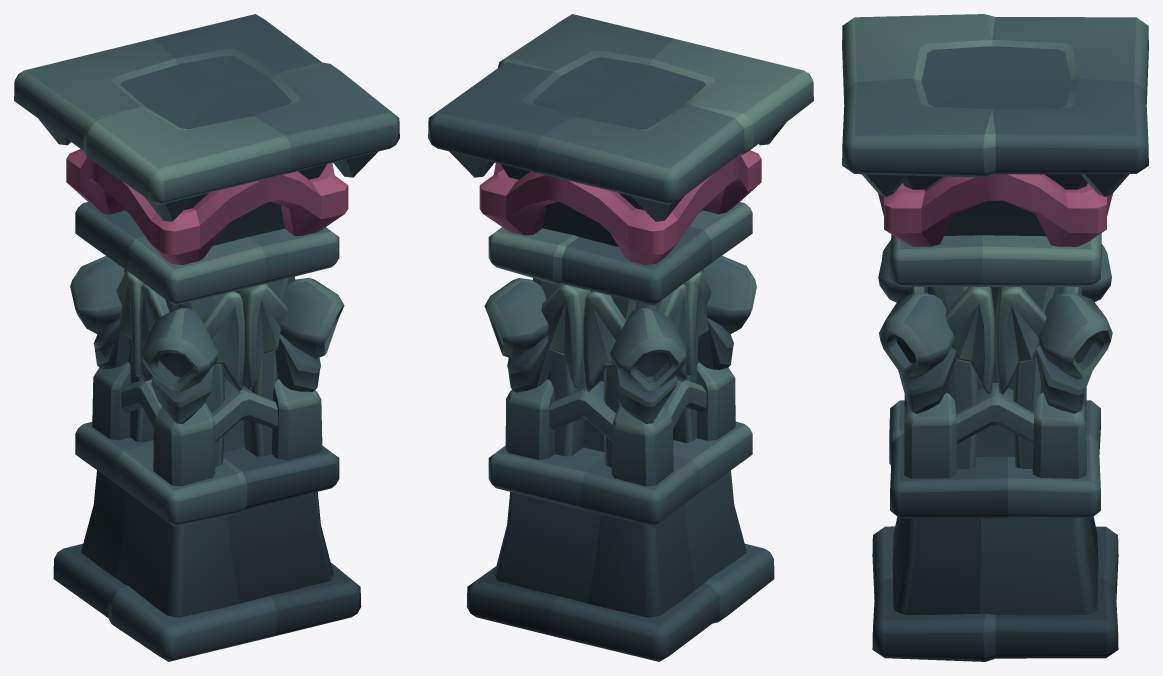
Rendered from pillar_fat.fbx.
The picture shows the model from 3 angles, left to right: view 1: azimuth 30°, elevation 25°; view 2: azimuth 150°, elevation 25°; view 3: azimuth 270°, elevation 25°; orthographic projection. The views are drawn at different scales.
Parts seen in each view (by area): view 1: pillar_fat; view 2: pillar_fat; view 3: pillar_fat.
Part boxes in pixels (x1=…): pillar_fat: x1=14, y1=14, x2=399, y2=661; pillar_fat: x1=428, y1=14, x2=813, y2=661; pillar_fat: x1=842, y1=14, x2=1148, y2=661.
Bounding box in the file's own units: 211 × 408 × 210.
